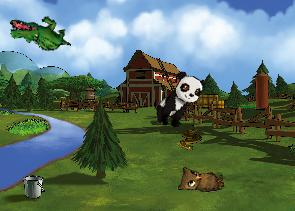crocodile: (8, 12, 71, 55)
owl: (175, 161, 225, 195)
panda: (150, 67, 208, 134)
